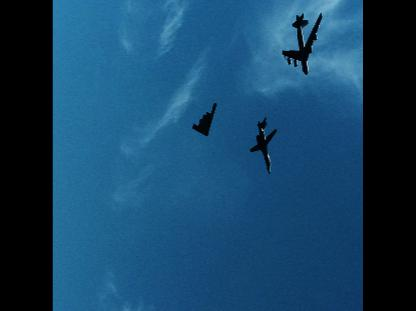AV8B: (250, 116, 276, 172)
B1: (192, 101, 216, 135)
B2: (282, 12, 323, 75)
